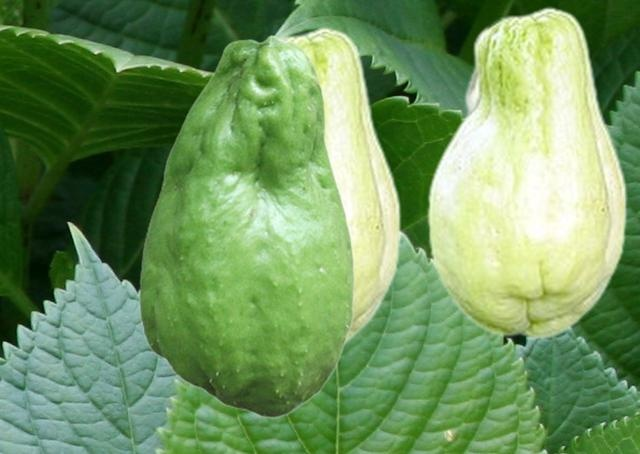sayote: (138, 34, 354, 417), (426, 6, 626, 339), (275, 26, 400, 349)
